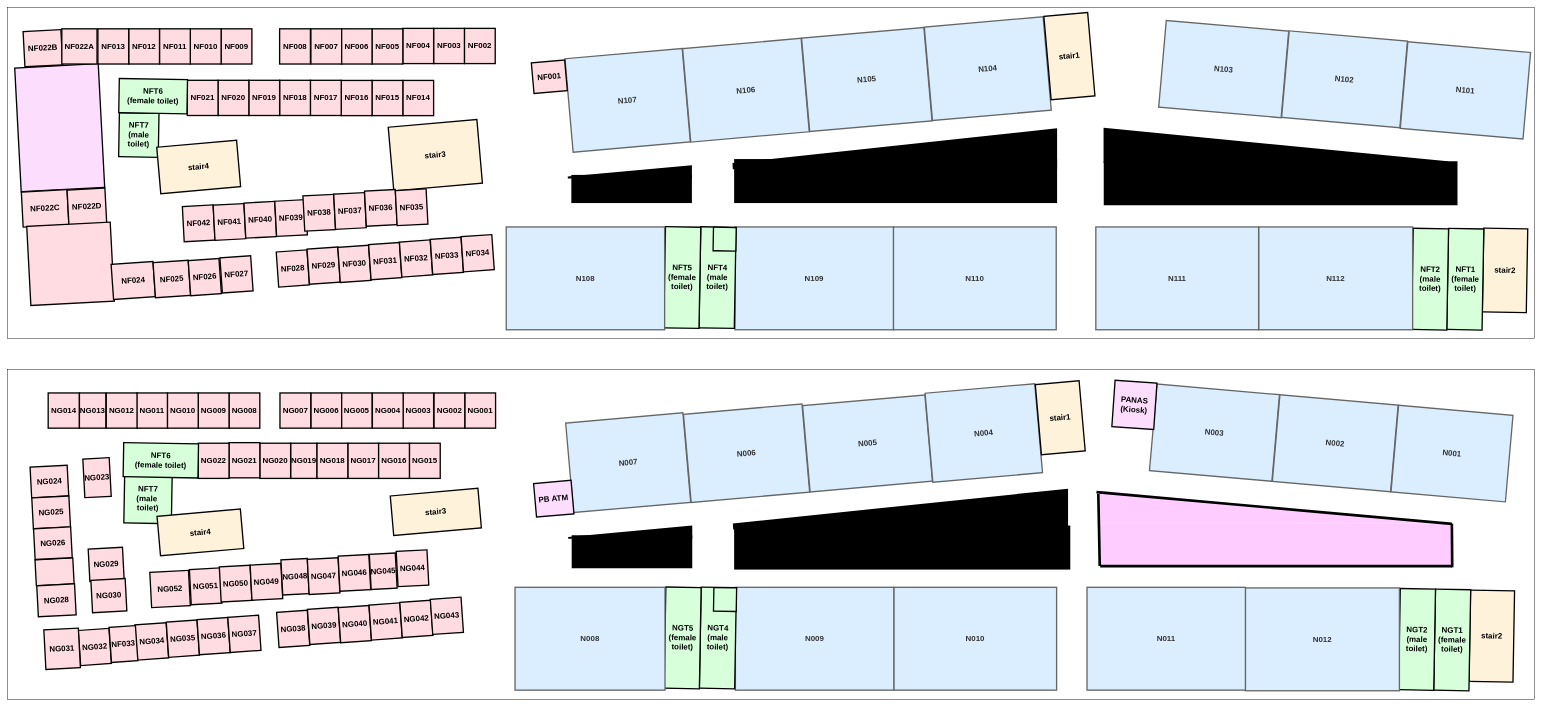
This 1542x707 diagram has some shape labels left out. The centre of each missing label's shape, as x and y in pixels:
"NF022 (FGO)" goes at (x=59, y=127).
"NF023" goes at (x=70, y=263).
"NFT3" goes at (x=724, y=239).
"NG027" goes at (x=54, y=571).
"NGT3" goes at (x=725, y=599).
"The Olive" goes at (x=1276, y=545).
